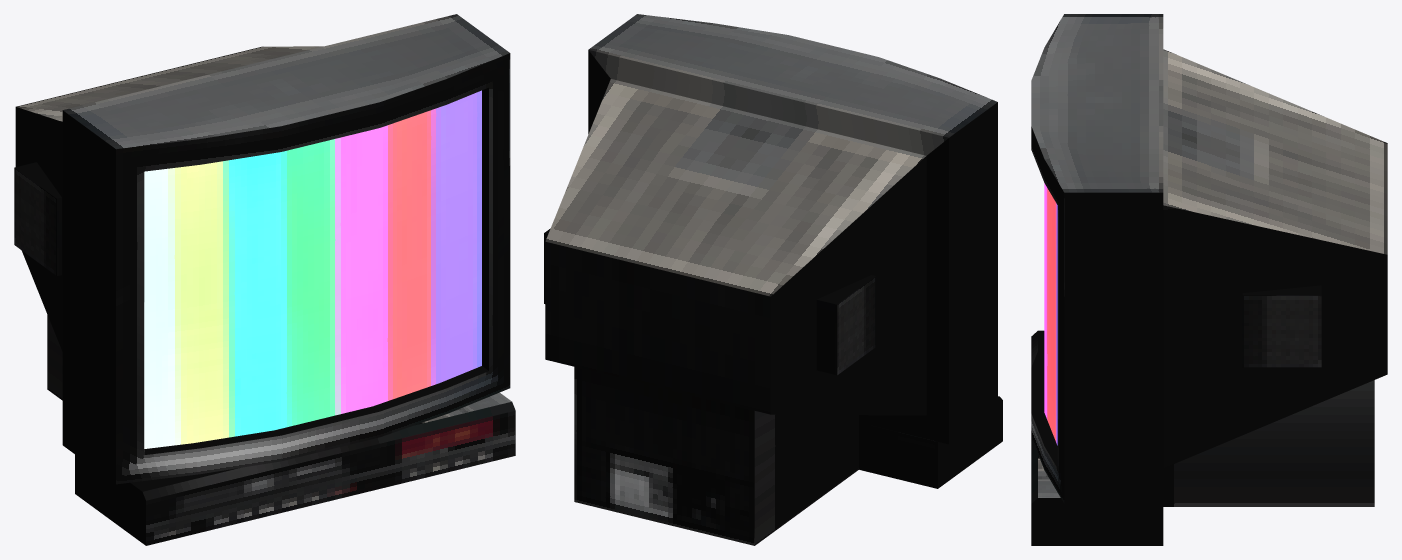
Rendered from crt-tv.glb.
The picture shows the model from 3 angles, left to right: view 1: azimuth 30°, elevation 25°; view 2: azimuth 150°, elevation 25°; view 3: azimuth 270°, elevation 25°; orthographic projection. The views are drawn at different scales.
Visible parts, largest first — view 1: Cube_TVCase_0, Cube_CRTScreen_0; view 2: Cube_TVCase_0; view 3: Cube_TVCase_0, Cube_CRTScreen_0.
Boxes of the visible parts, bbox=[...] form: Cube_TVCase_0: bbox=[14, 14, 515, 545]; Cube_CRTScreen_0: bbox=[144, 90, 481, 448]; Cube_TVCase_0: bbox=[544, 14, 1002, 545]; Cube_TVCase_0: bbox=[1031, 14, 1387, 545]; Cube_CRTScreen_0: bbox=[1044, 183, 1057, 445].
Size of the model in its own units: 3.2 by 3 by 2.7.
2 materials, 1 textured.
